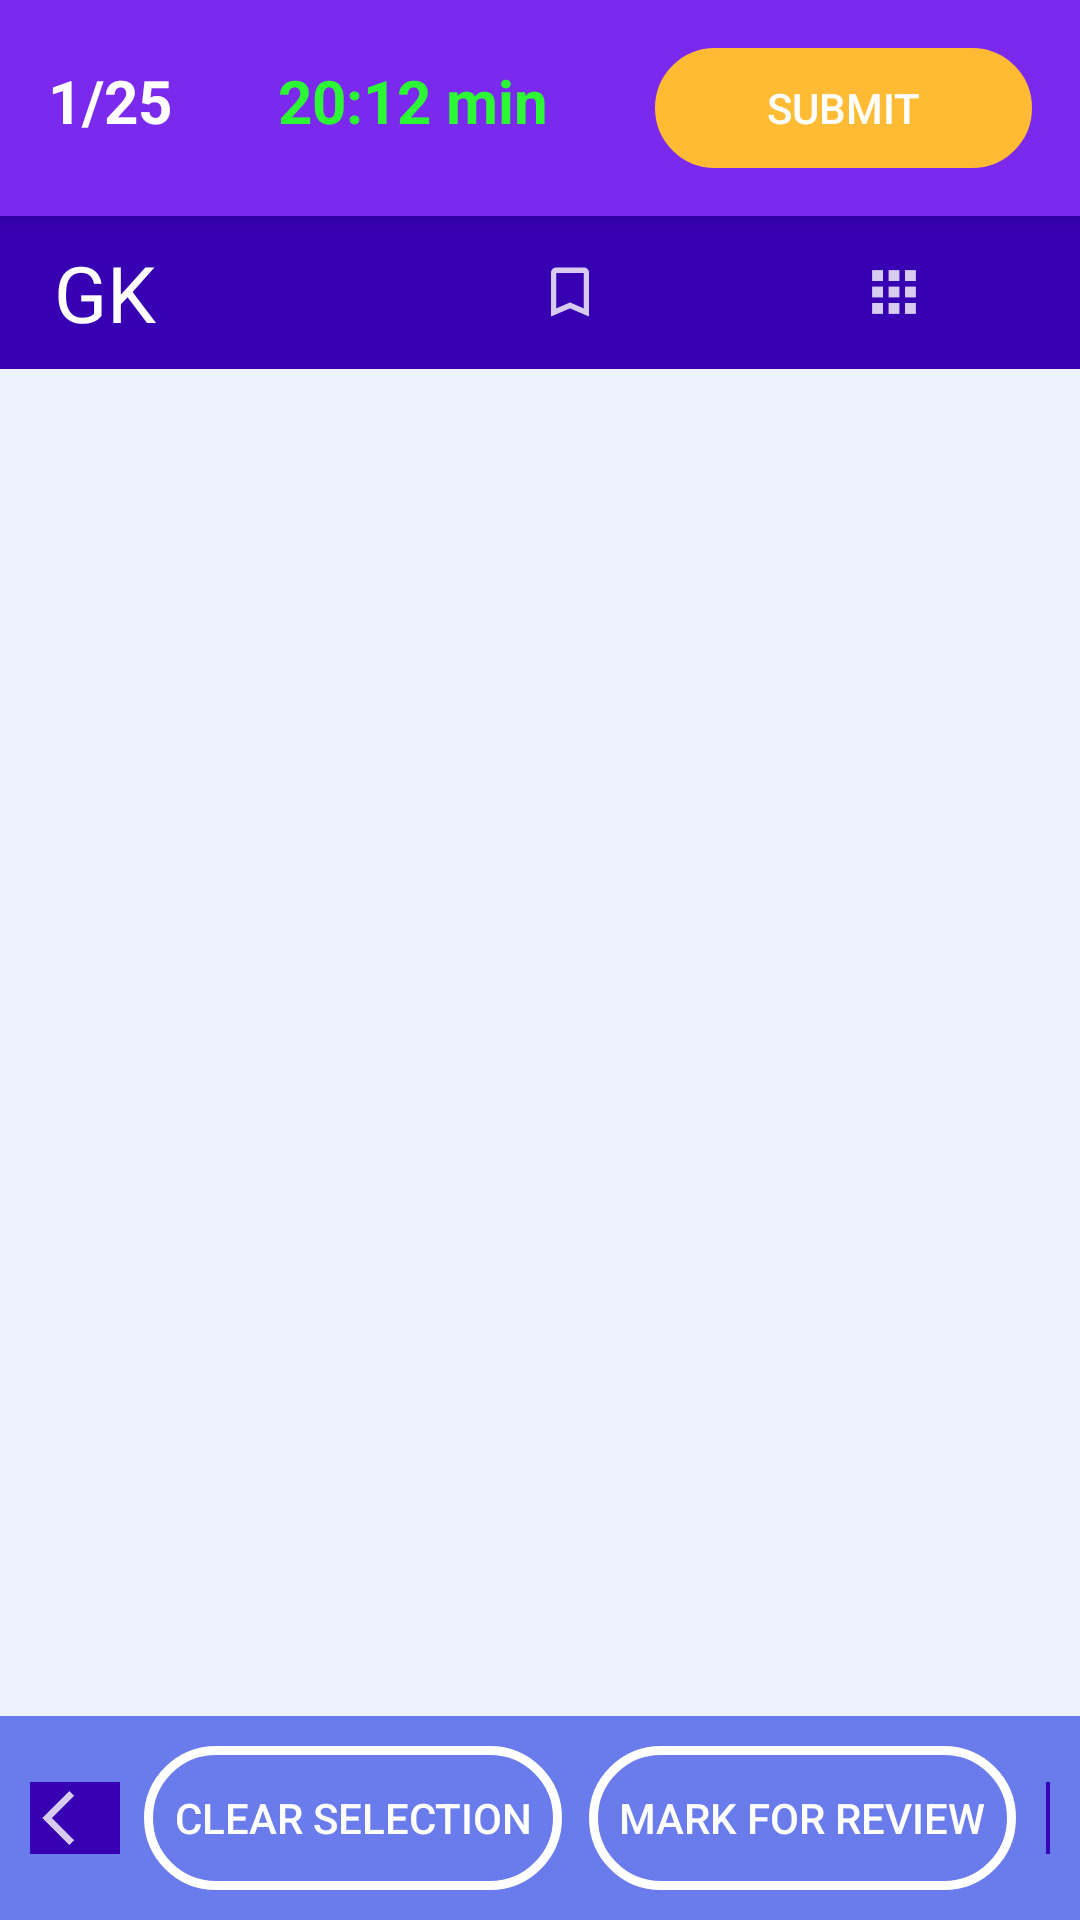

Where to tap for icons on this 1080×1920 app screen, as (x=x, y=y):
apps: (x=894, y=292)
back: (x=75, y=1818)
bookmark: (x=570, y=292)
